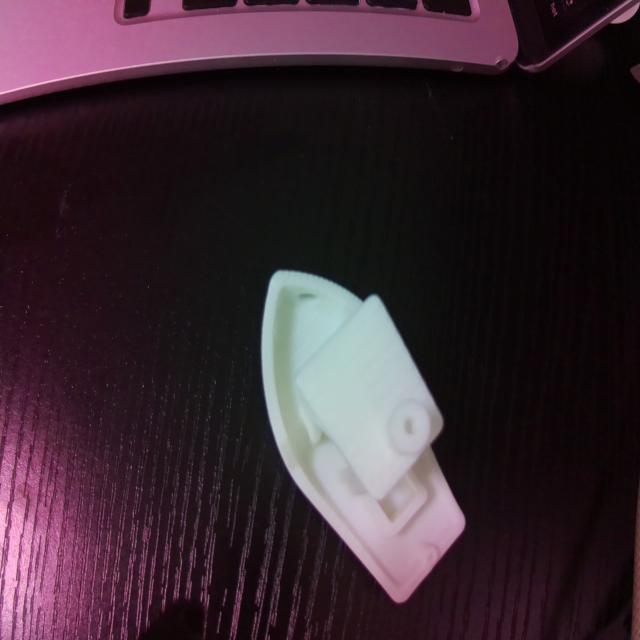ship: (262, 266, 466, 602)
